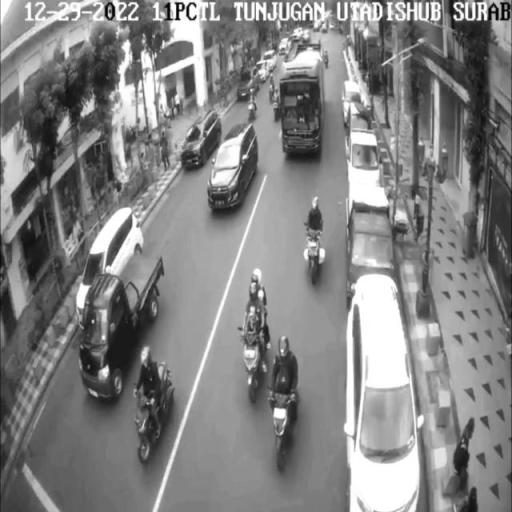car: (346, 277, 416, 512), (78, 206, 146, 328), (207, 126, 257, 213), (179, 112, 221, 172)
motorcycle: (131, 362, 175, 466), (244, 298, 268, 405), (271, 392, 298, 476), (301, 221, 327, 286)
truck: (84, 254, 166, 403), (342, 182, 397, 302), (281, 44, 325, 161), (346, 106, 383, 196)
